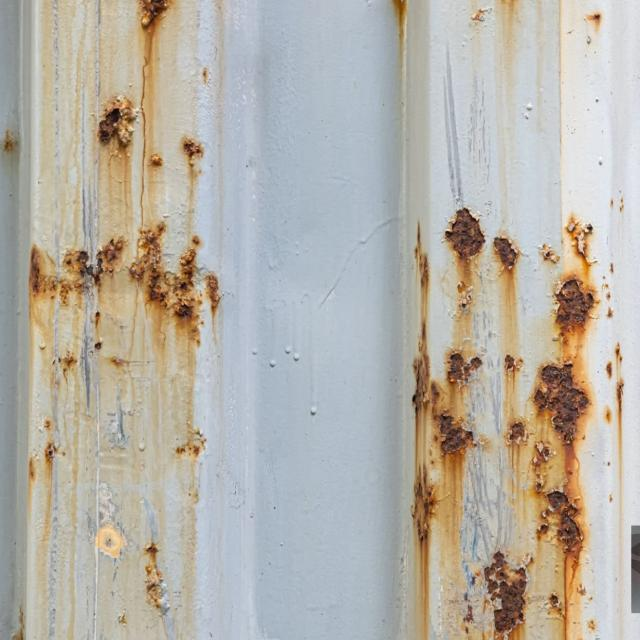Pitting Corrosion: (411, 180, 524, 539), (533, 215, 600, 639), (484, 551, 526, 639)
